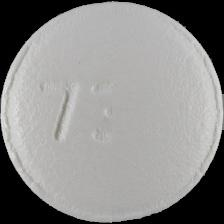68788-9669: (0, 0, 224, 224)
